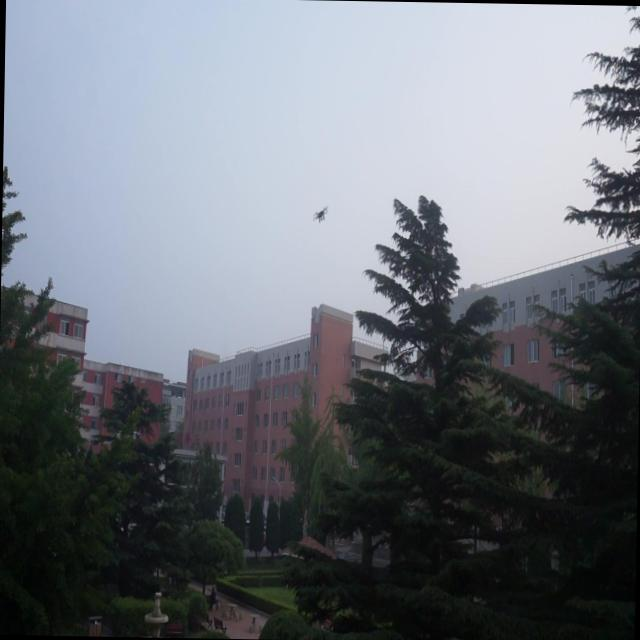drone: (310, 202, 330, 224)
